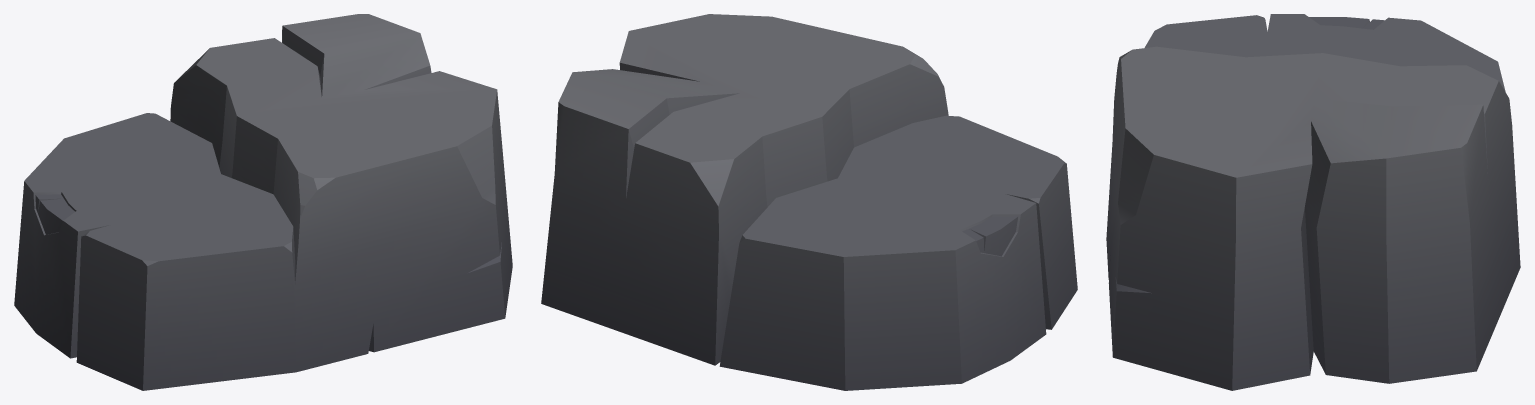
File: BigRock_01.fbx
3 views of the same model, side by side, from view 1: azimuth 30°, elevation 25°; view 2: azimuth 150°, elevation 25°; view 3: azimuth 270°, elevation 25° (orthographic). The views are drawn at different scales.
Parts seen in each view (by area): view 1: BigRock_01_LOD0; view 2: BigRock_01_LOD0; view 3: BigRock_01_LOD0.
Part boxes in pixels (box(x1,y1,x2,y2)): BigRock_01_LOD0: box(14, 14, 512, 390); BigRock_01_LOD0: box(541, 14, 1077, 390); BigRock_01_LOD0: box(1106, 14, 1520, 390).
Size of what is drawn, in the model's own units: 6.42 by 2.73 by 4.7.
